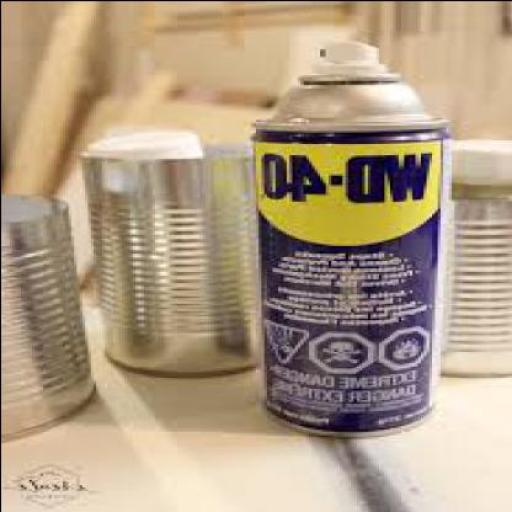metal: (252, 119, 451, 434), (92, 132, 255, 373), (2, 194, 92, 440), (431, 151, 511, 378)
